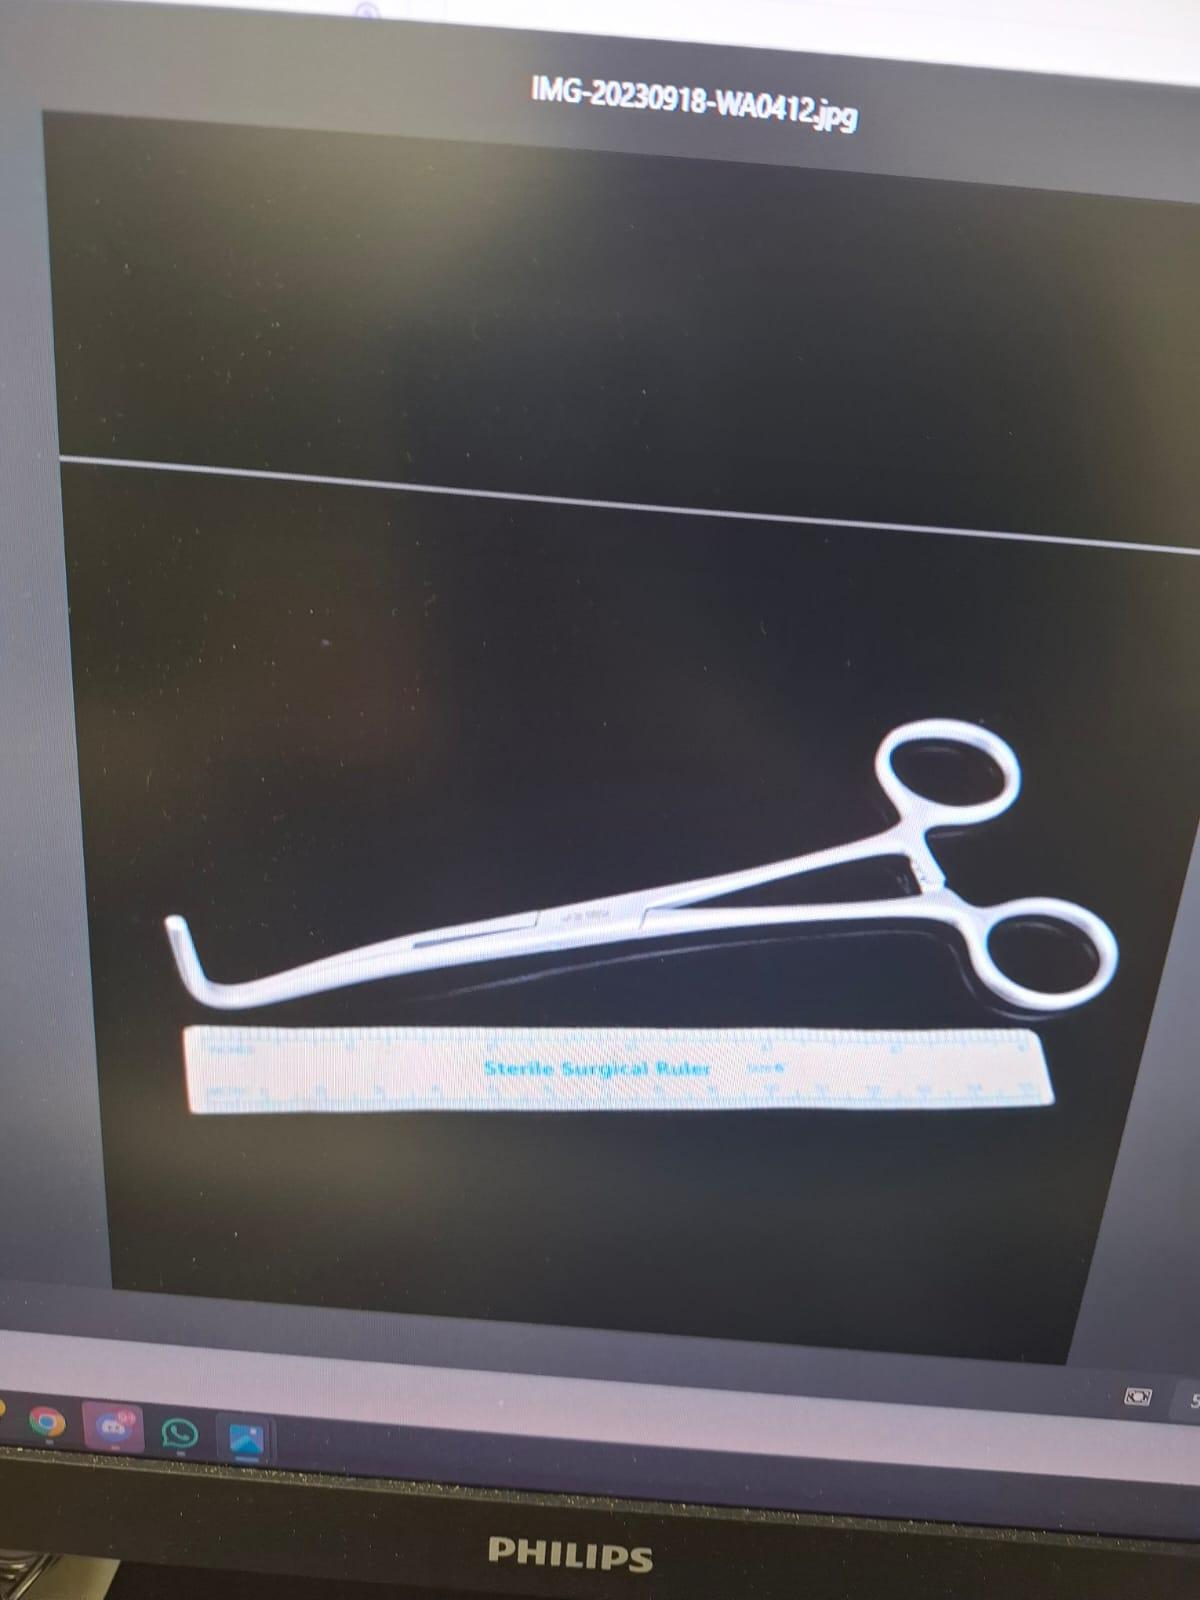Rectangle Cholecystectomy Forceps: (132, 698, 1130, 1028)
